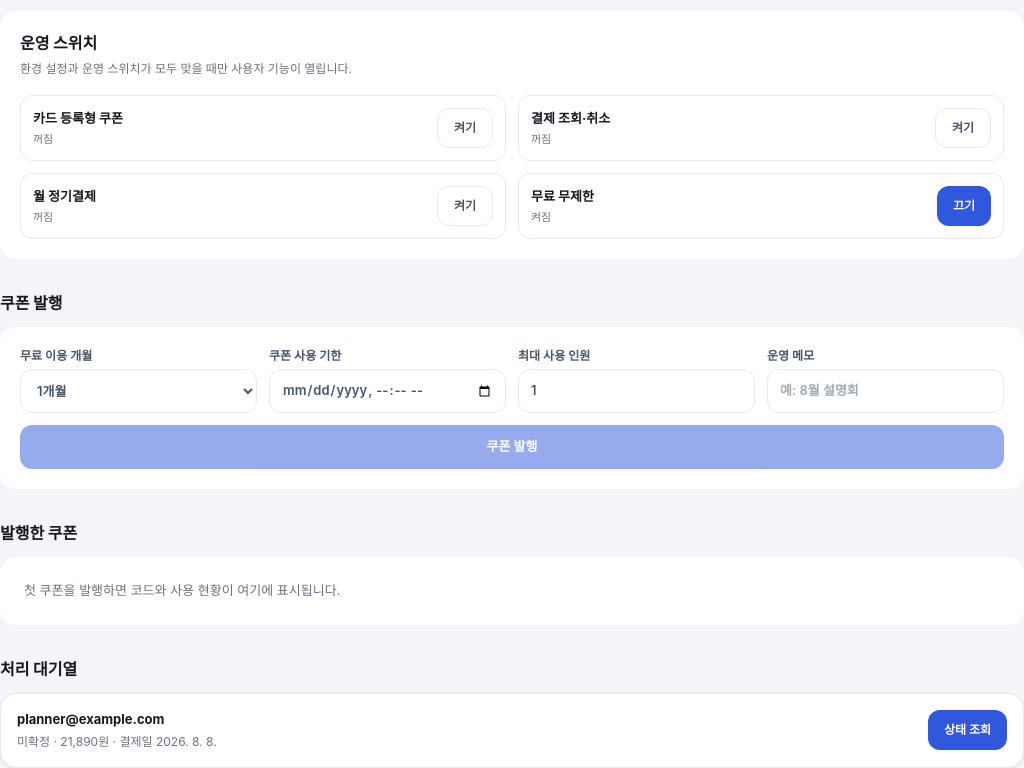
Test case: 관리자 결제 운영 › 1~3개월 중 선택해 사용 기한이 있는 쿠폰을 발행한다
(page scrolled)
Select "2개월" in the dropdown labelled "무료 이용 개월" at (138, 391), box [20,369,257,413]
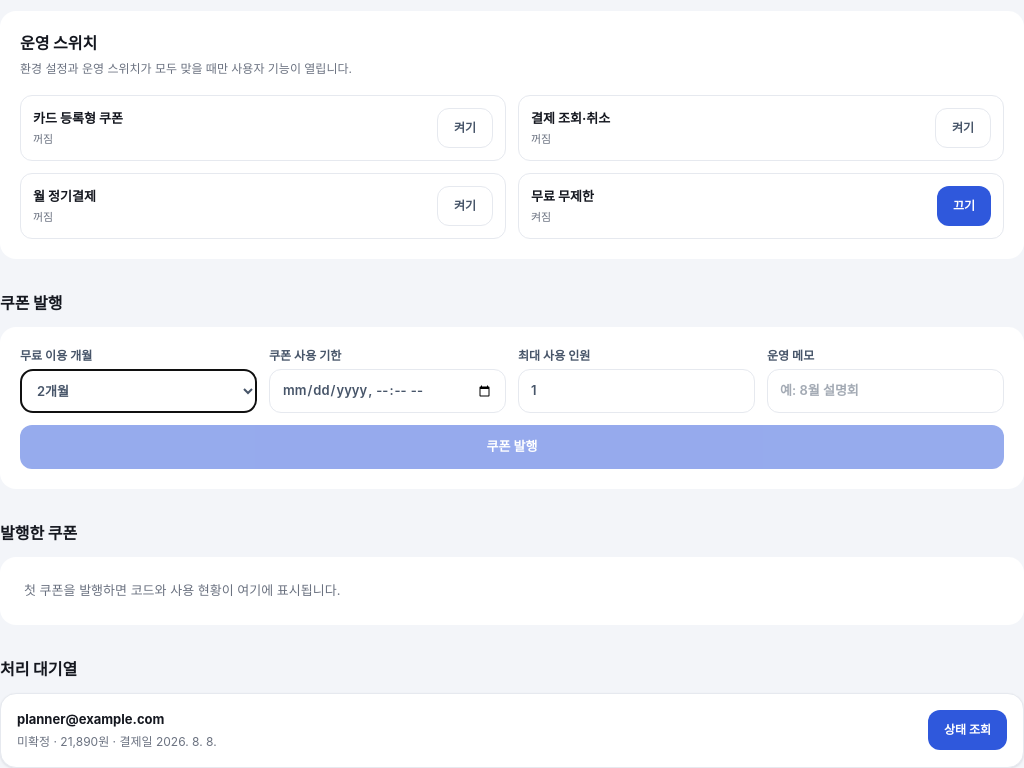
Type "2026-10-31T23:59" into the field labelled "쿠폰 사용 기한" at (388, 391), box [269,369,506,413]
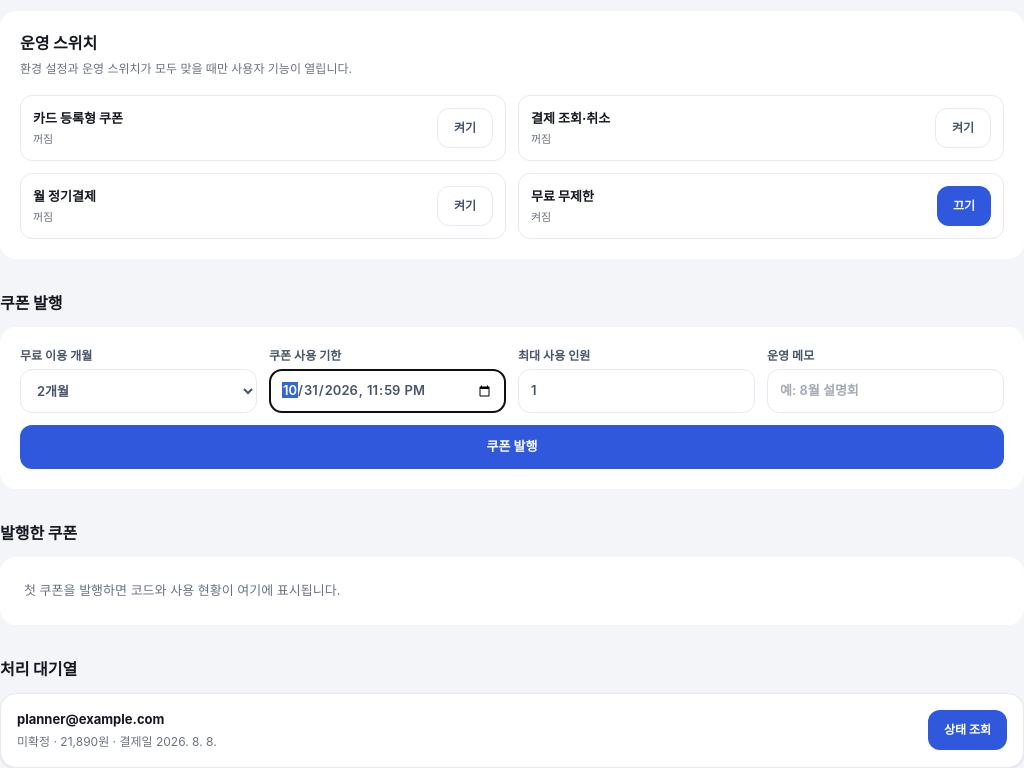
Replace the text in the number field labelled "최대 사용 인원" with "100" at (636, 391), box [518,369,755,413]
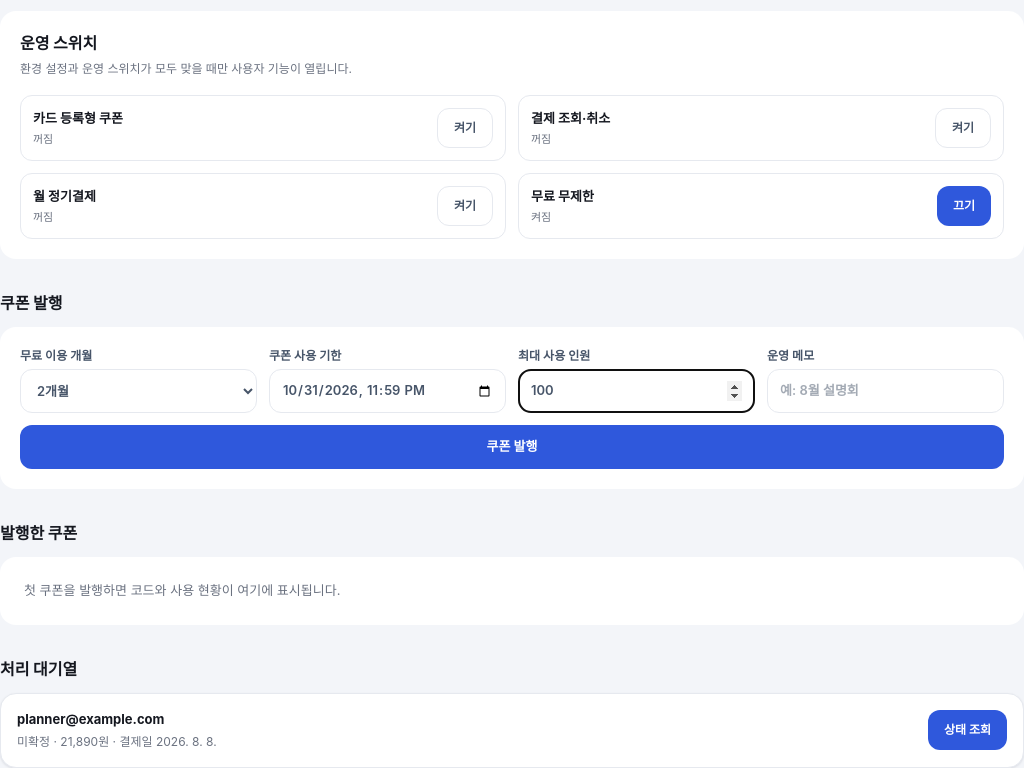
Click the button "쿠폰 발행" at (512, 447), box [20,425,1004,469]
(page scrolled)
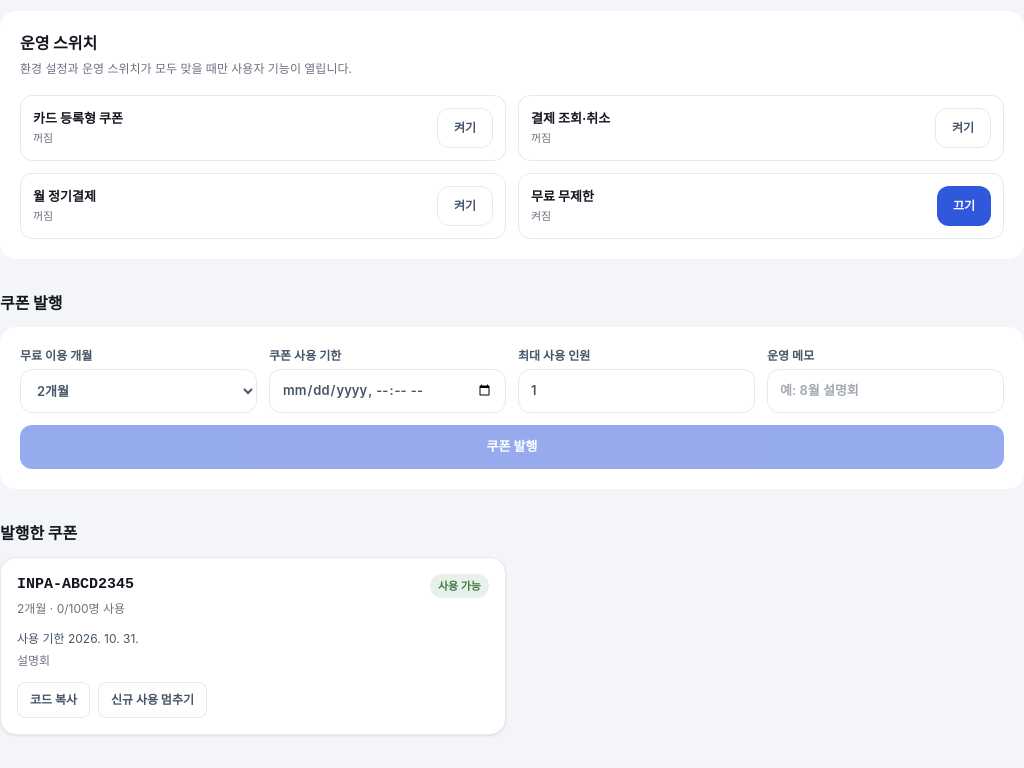
Expected: the text "INPA-ABCD2345" is shown, [17,574,134,596]
